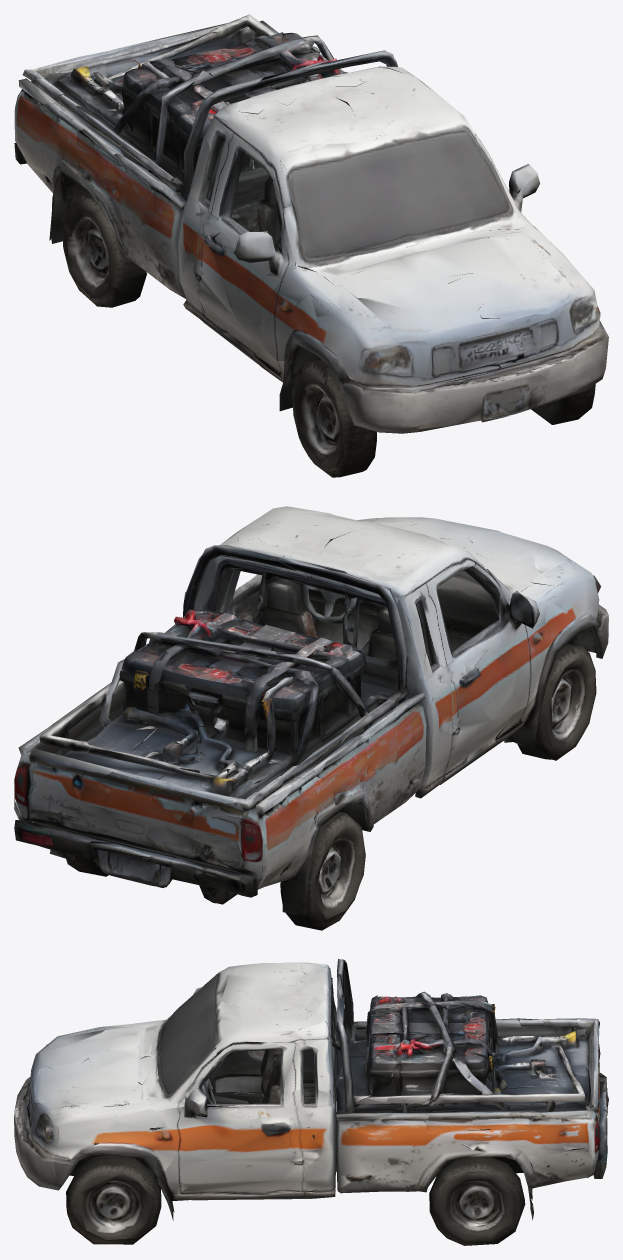
The model's file is utility_truck_LOD1.fbx.
3 renders of one model, top to bottom at view 1: azimuth 30°, elevation 25°; view 2: azimuth 150°, elevation 25°; view 3: azimuth 270°, elevation 25°, orthographic. The views are drawn at different scales.
Parts seen in each view (by area): view 1: utility_truck.001; view 2: utility_truck.001; view 3: utility_truck.001.
Part boxes in pixels (left/top/right/bottom): utility_truck.001: left=14, top=14, right=608, bottom=477; utility_truck.001: left=14, top=506, right=608, bottom=930; utility_truck.001: left=14, top=959, right=608, bottom=1245.
Bounding box in the file's own units: 2.21 × 1.88 × 4.79.
Materials: 1 (1 with a texture image).
